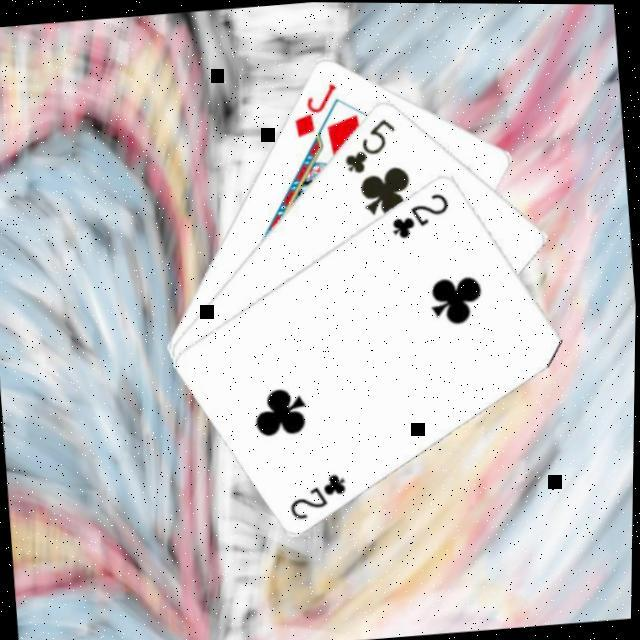2C: (286, 466, 354, 521), (387, 186, 456, 240)
5C: (338, 110, 403, 176)
JD: (288, 77, 345, 139)
